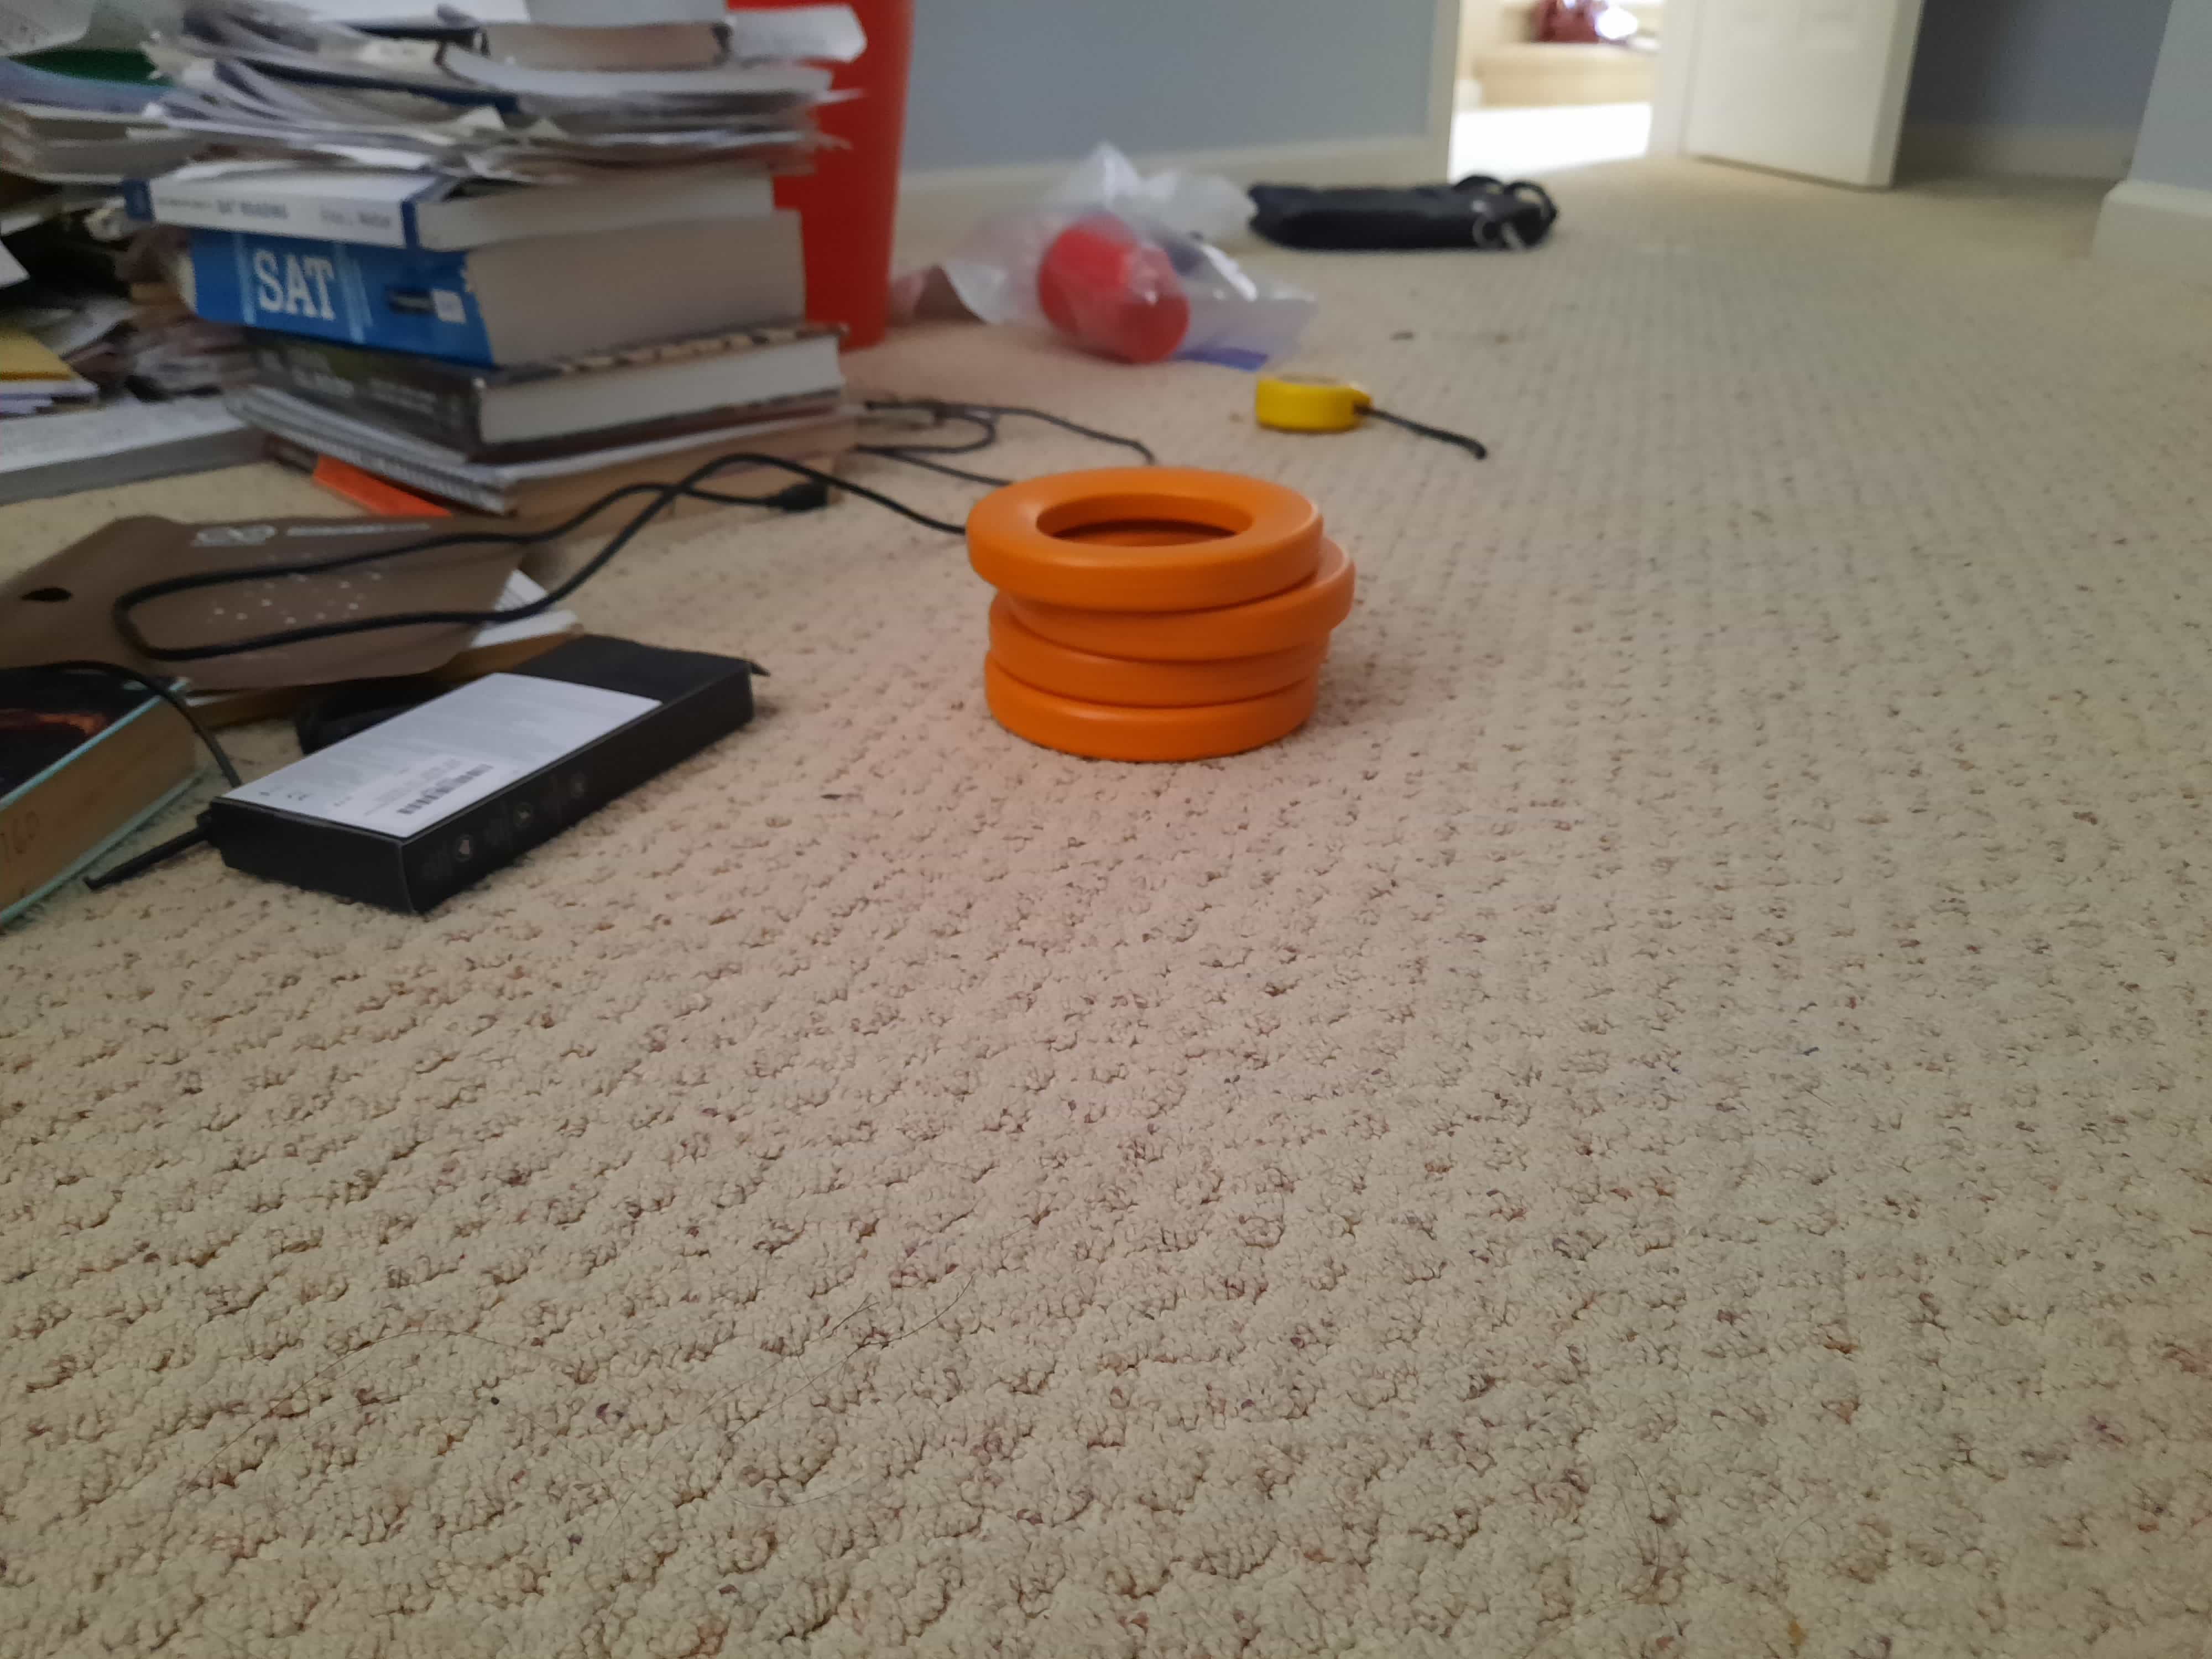FourStack: (968, 469, 1346, 755)
